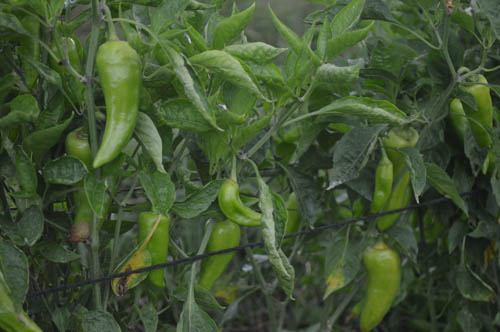ChiliPepper: (91, 40, 141, 163), (359, 249, 401, 332), (200, 222, 241, 294), (378, 150, 410, 232), (137, 212, 170, 288), (216, 181, 267, 227), (455, 84, 493, 141), (62, 131, 91, 202), (46, 41, 81, 84), (15, 21, 38, 83), (443, 100, 471, 143), (373, 161, 392, 217)
